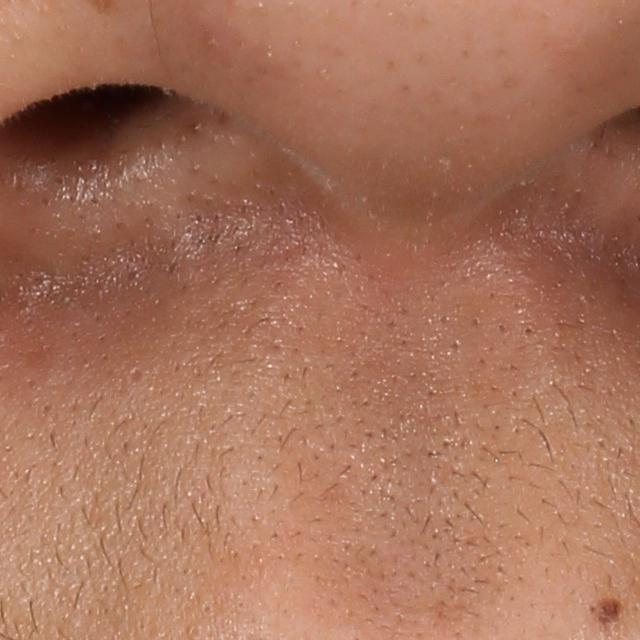nevus: (572, 588, 621, 636)
